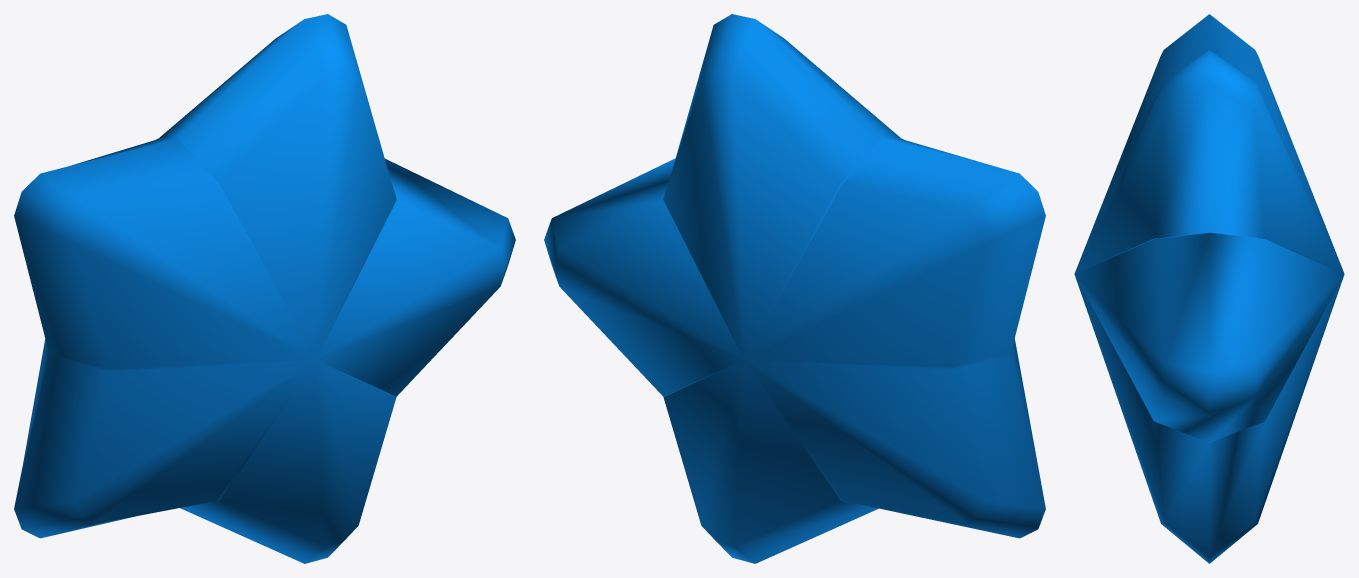
Rendered from Star_V2_0.fbx.
3 views of the same model, side by side, from view 1: azimuth 30°, elevation 25°; view 2: azimuth 150°, elevation 25°; view 3: azimuth 270°, elevation 25° (orthographic). The views are drawn at different scales.
Parts seen in each view (by area): view 1: Star_V2_0; view 2: Star_V2_0; view 3: Star_V2_0.
Boxes of the visible parts, x1,y1,x2,y2 form: Star_V2_0: (14,14,515,563); Star_V2_0: (544,14,1045,563); Star_V2_0: (1074,14,1344,563).
Size of the model in its own units: 0.4434 by 0.46 by 0.2235.
